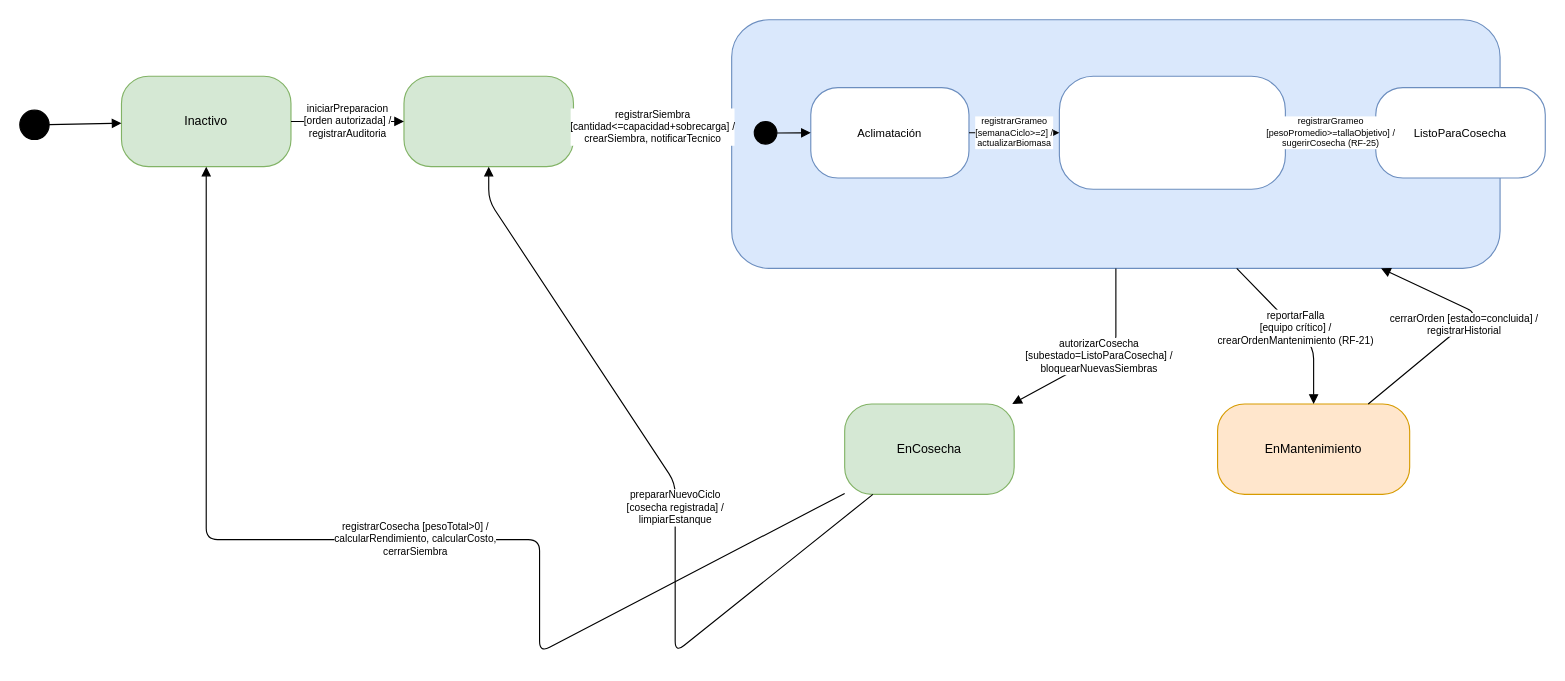
The diagram is 1565 pixels wide and 681 high, and some of its shapes have lost their labels. The box of each missing label's shape, as (x1, y1, x2, y2) in pixels:
Activo: (731, 19, 1500, 268)
Engorde recibirParametro[fueraDeRango] / generarAlerta (RF-10): (1058, 75, 1285, 189)
EnPreparación: (403, 75, 573, 167)
